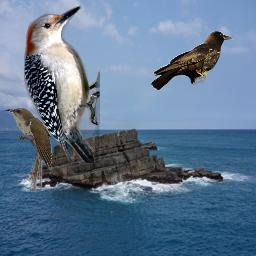Crow: (151, 29, 234, 93)
Cuckoo: (5, 107, 52, 192)
Woodpecker: (24, 6, 100, 163)
